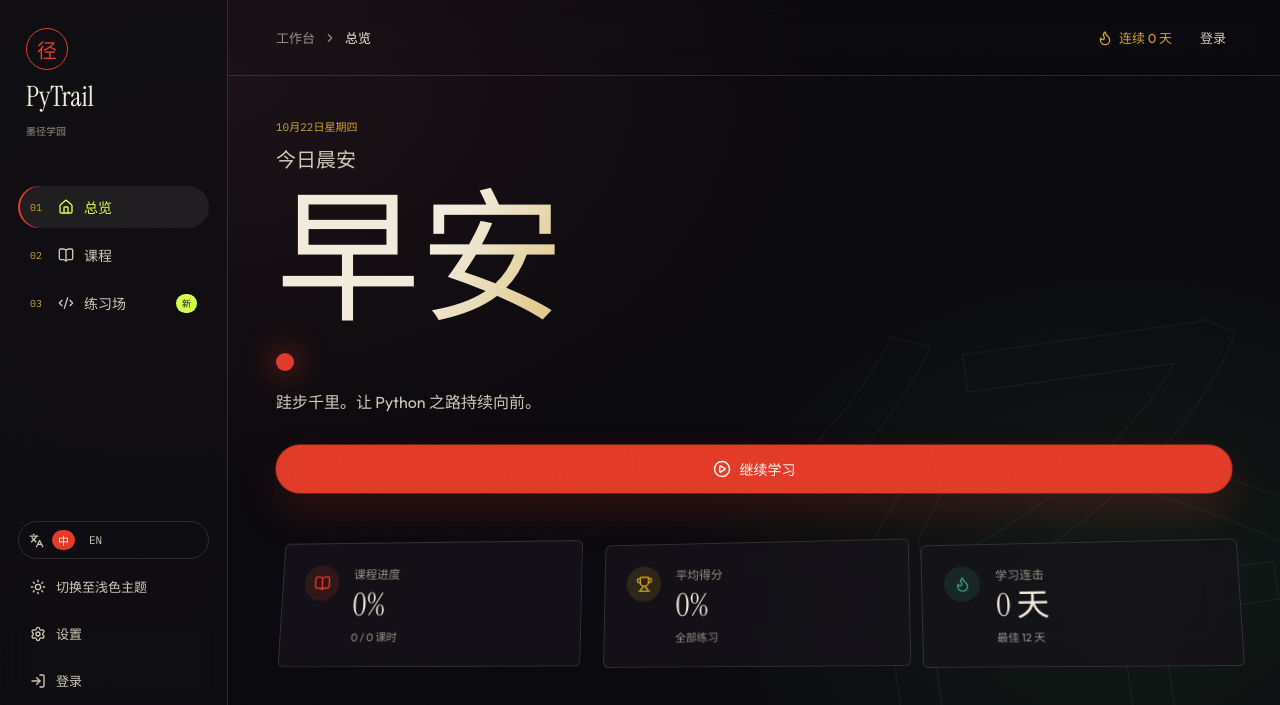
Test: on-demand course and lesson workflow › opens the first course when the course navigation is used initially
The width and height of the screenshot is (1280, 705).
Click the button with test id "nav-course" at point(114, 255), box [18, 234, 209, 276]
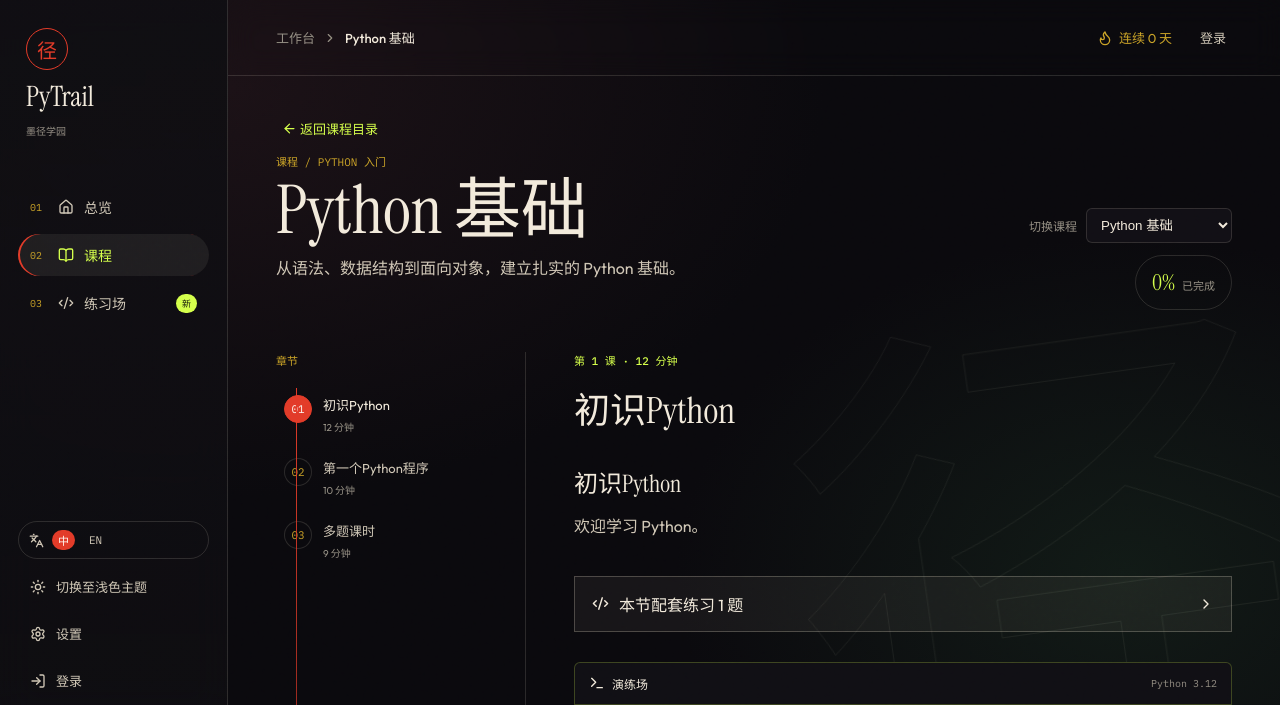
Expected: the 1st heading "初识Python" is shown, [574, 387, 735, 434]
Expected: the element with class "markdown" is shown, [574, 468, 708, 536]
